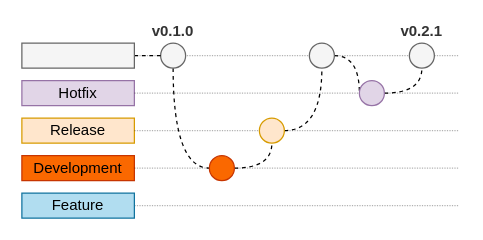
Image size: 483x240. Some labels were removed from this diagram. Each missing label, with the centre of its shape:
"Master" belongs at point 77,55.
"v0.2.0" belongs at point 321,55.
